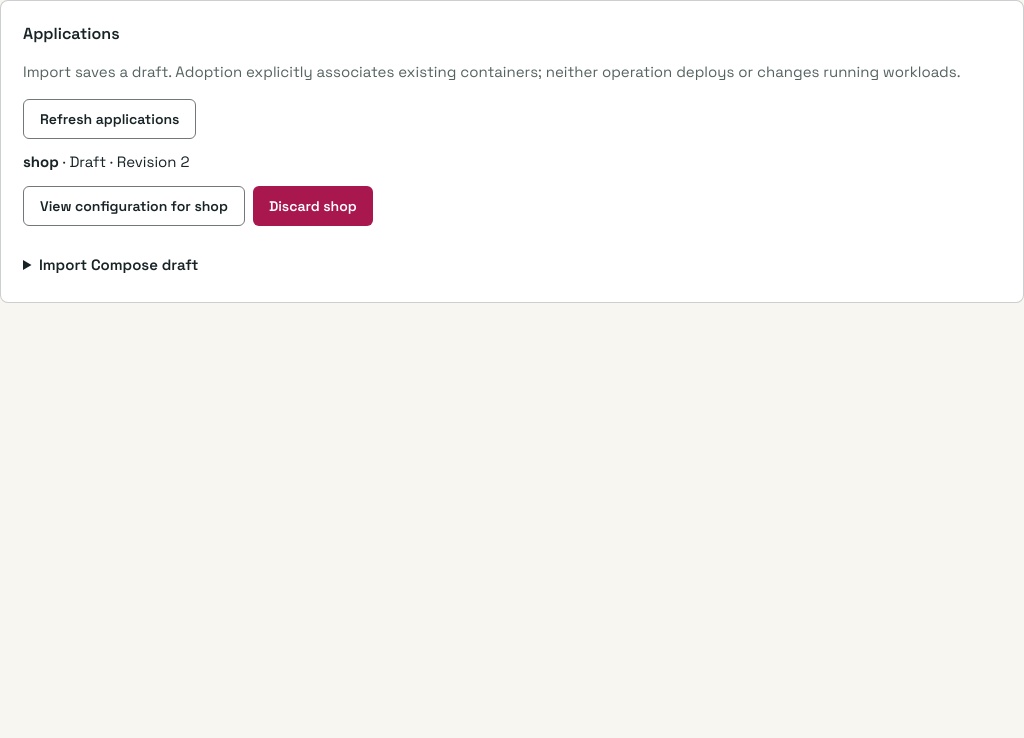
Test: reads historical definitions without changing the head used for a new save
Click the button "View configuration for shop" at (134, 206), box x1=23 y1=186 x2=245 y2=226
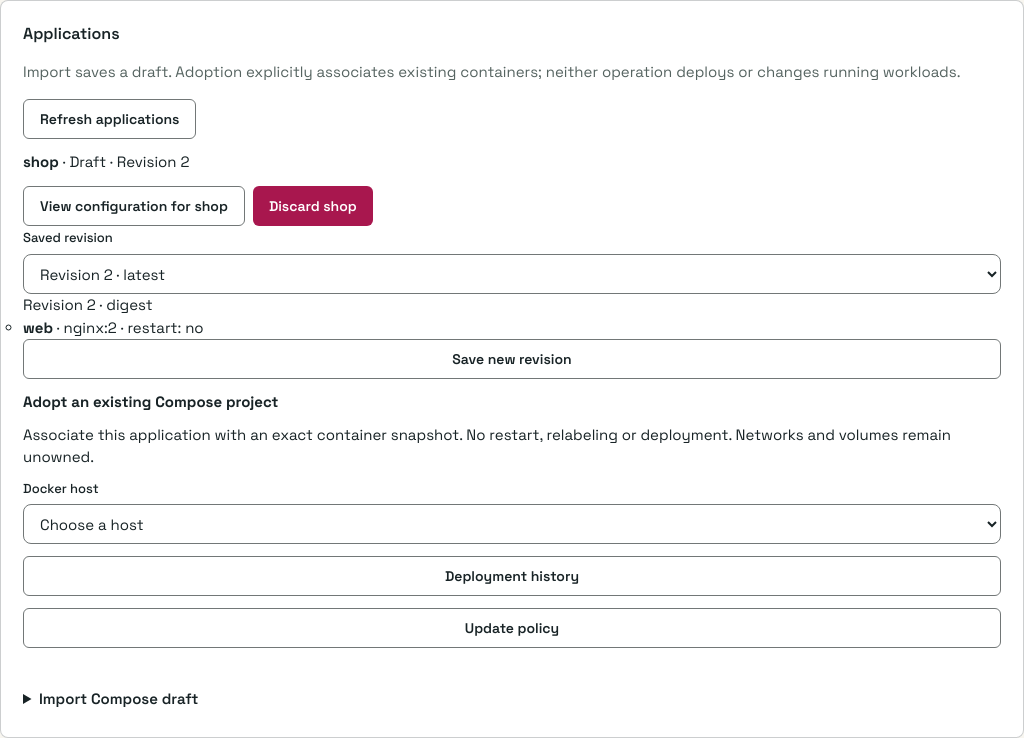
Now the list item "web · nginx:2 · restart: no" is shown, box x1=23 y1=318 x2=204 y2=337
Select "Revision 1" in the dropdown labelled "Saved revision" at (512, 274), box x1=23 y1=254 x2=1001 y2=294
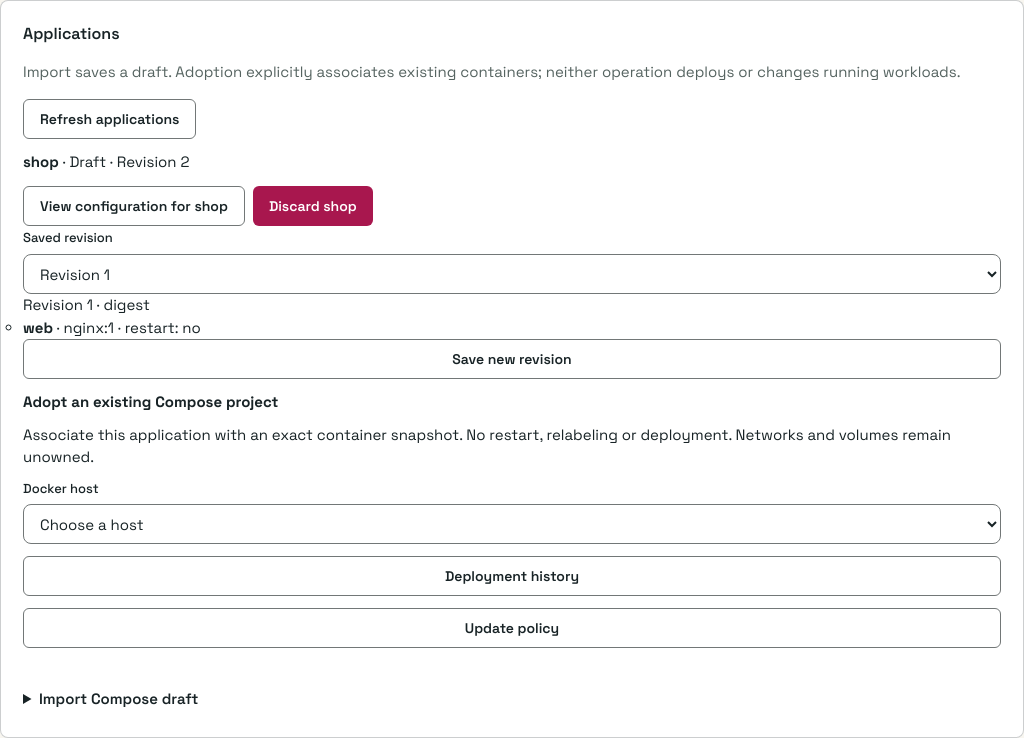
Now the list item "web · nginx:1 · restart: no" is shown, box x1=23 y1=318 x2=201 y2=337
Click the button "Save new revision" at (512, 359), box x1=23 y1=339 x2=1001 y2=379
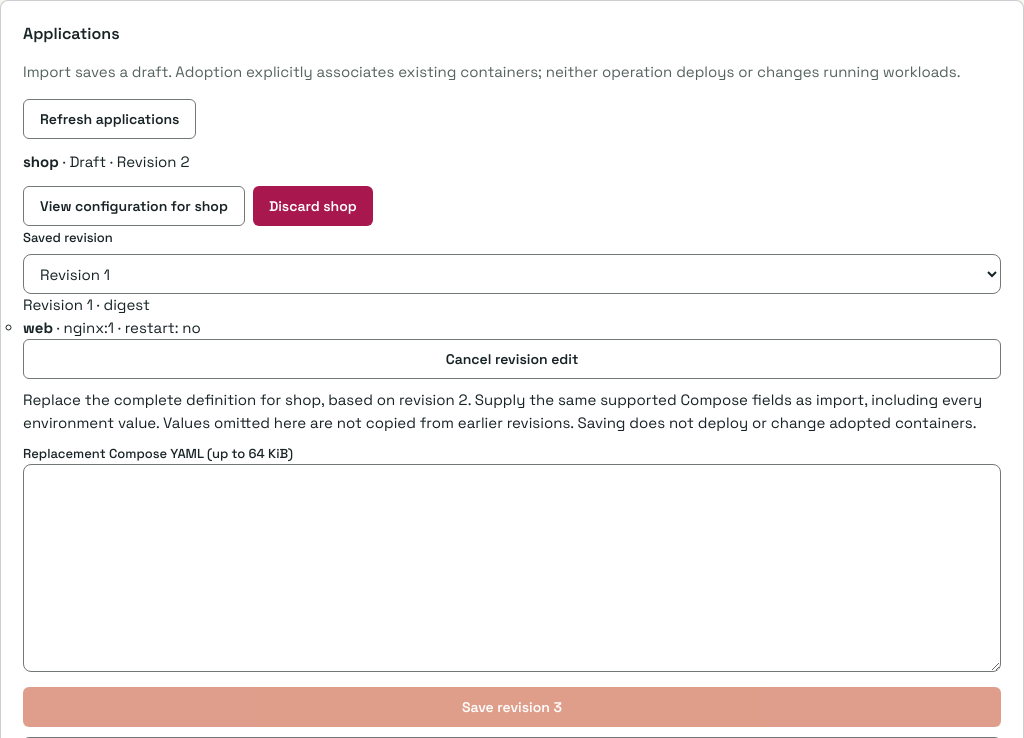
Now the button "Save revision 3" is shown, box x1=23 y1=687 x2=1001 y2=727
